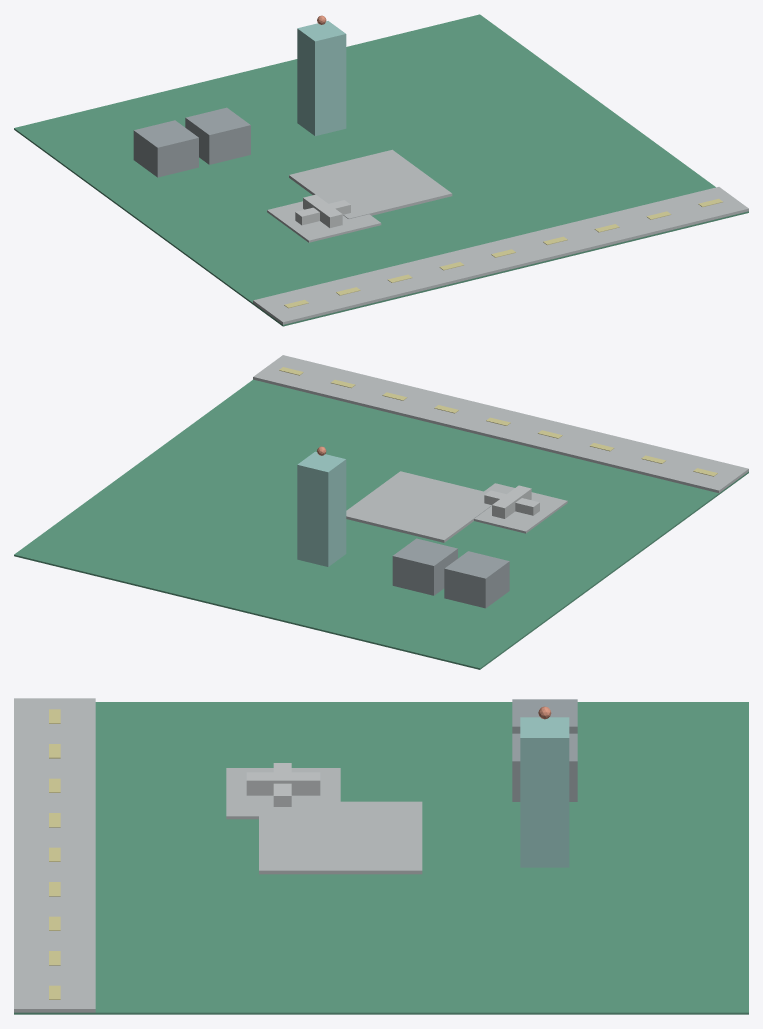
Rendered from stage_05.glb.
The picture shows the model from 3 angles, top to bottom: view 1: azimuth 30°, elevation 25°; view 2: azimuth 150°, elevation 25°; view 3: azimuth 270°, elevation 25°; orthographic projection. The views are drawn at different scales.
Visible parts, largest first — view 1: geometry_0; view 2: geometry_0; view 3: geometry_0.
Boxes of the visible parts, left/top/right/bottom form: geometry_0: left=14, top=14, right=748, bottom=326; geometry_0: left=14, top=355, right=748, bottom=669; geometry_0: left=14, top=698, right=748, bottom=1014.
Bounding box in the file's own units: 9 × 2.06 × 9.
